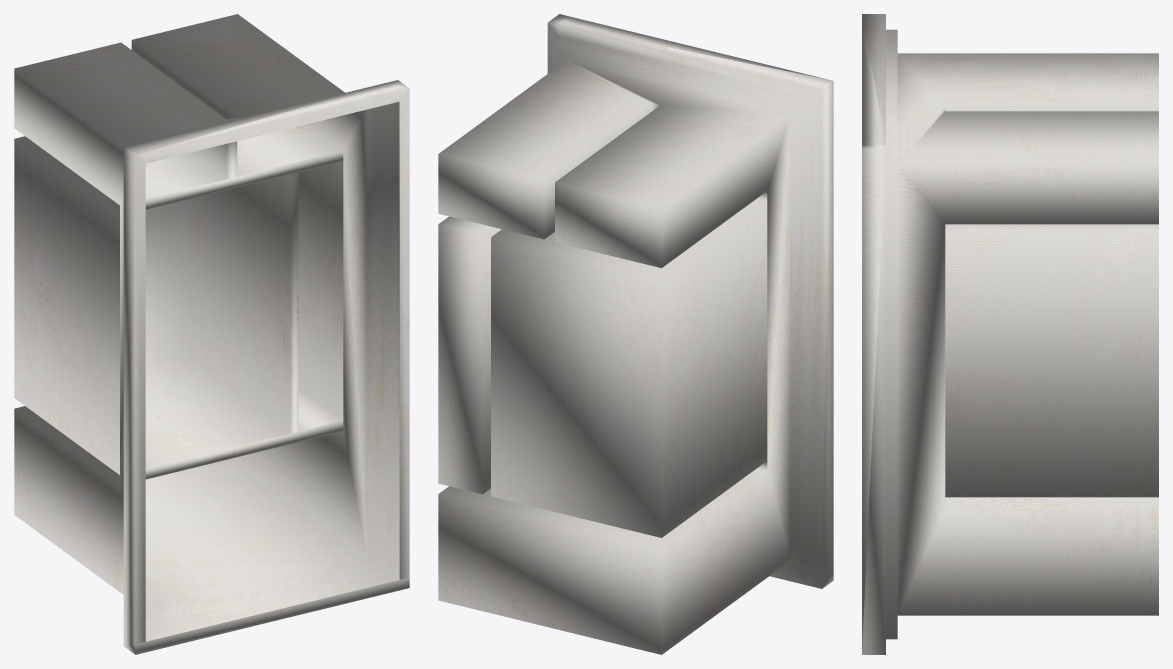
Rendered from original-11.obj.
3 views of the same model, side by side, from view 1: azimuth 30°, elevation 25°; view 2: azimuth 150°, elevation 25°; view 3: azimuth 270°, elevation 25° (orthographic).
Parts seen in each view (by area): view 1: mesh3/mesh3-geometry/material_2#mesh3-geometry; view 2: mesh3/mesh3-geometry/material_2#mesh3-geometry; view 3: mesh3/mesh3-geometry/material_2#mesh3-geometry.
Part boxes in pixels (box(x1,y1,x2,y2)): mesh3/mesh3-geometry/material_2#mesh3-geometry: box(14, 14, 409, 654); mesh3/mesh3-geometry/material_2#mesh3-geometry: box(438, 14, 833, 654); mesh3/mesh3-geometry/material_2#mesh3-geometry: box(862, 14, 1158, 654).
Bounding box in the file's own units: 0.6318 × 1.1 × 0.585.
Materials: 2 (1 with a texture image).
